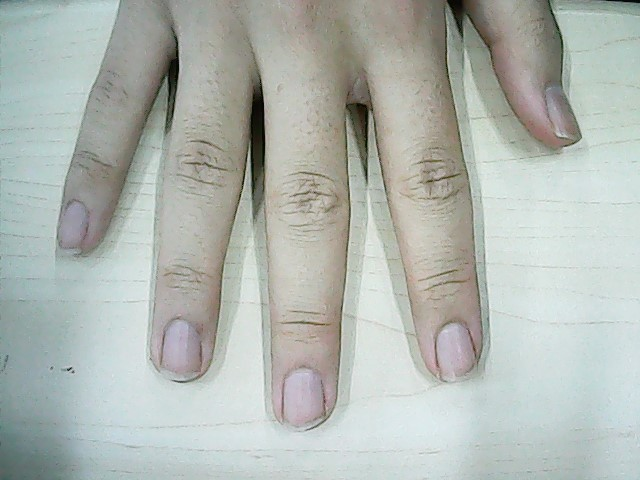nail: (280, 366, 327, 432), (159, 318, 204, 383), (434, 324, 478, 383), (543, 86, 584, 144), (56, 199, 90, 257)
